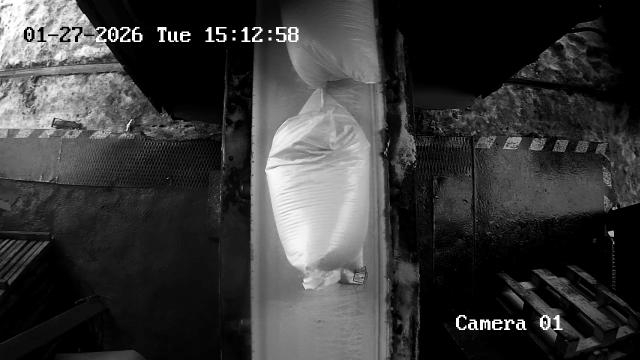bag: (266, 90, 371, 288), (284, 0, 376, 90)
